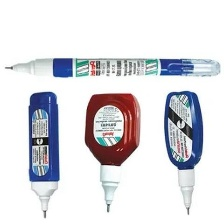correction_fluid: (81, 92, 141, 213), (161, 86, 206, 215), (0, 54, 224, 79), (25, 88, 61, 220)
